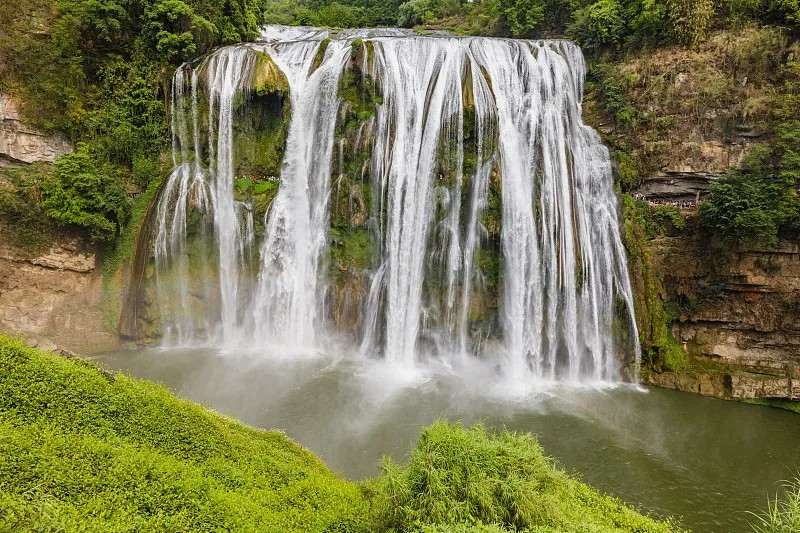Huangguoshu: (159, 27, 647, 386)
